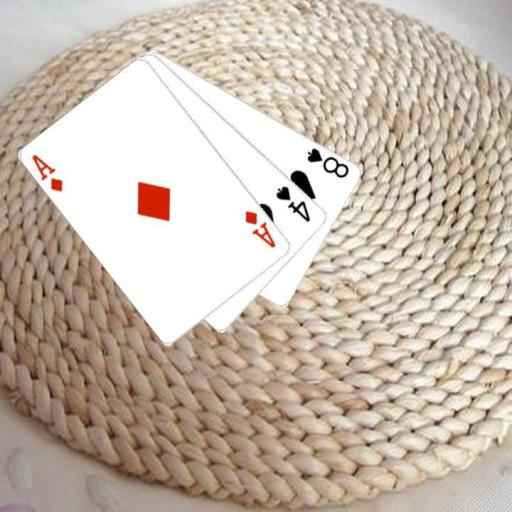4S: (273, 183, 312, 223)
8S: (304, 144, 351, 180)
AD: (29, 152, 66, 194), (242, 207, 278, 250)
